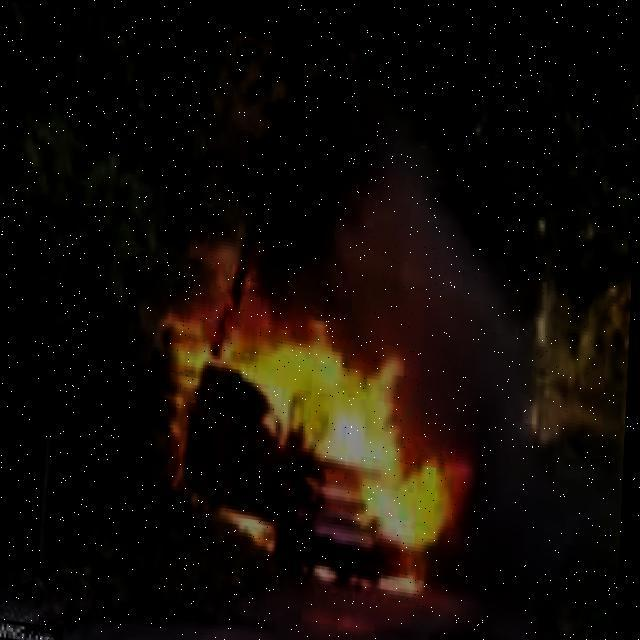Fire: (155, 306, 487, 620)
